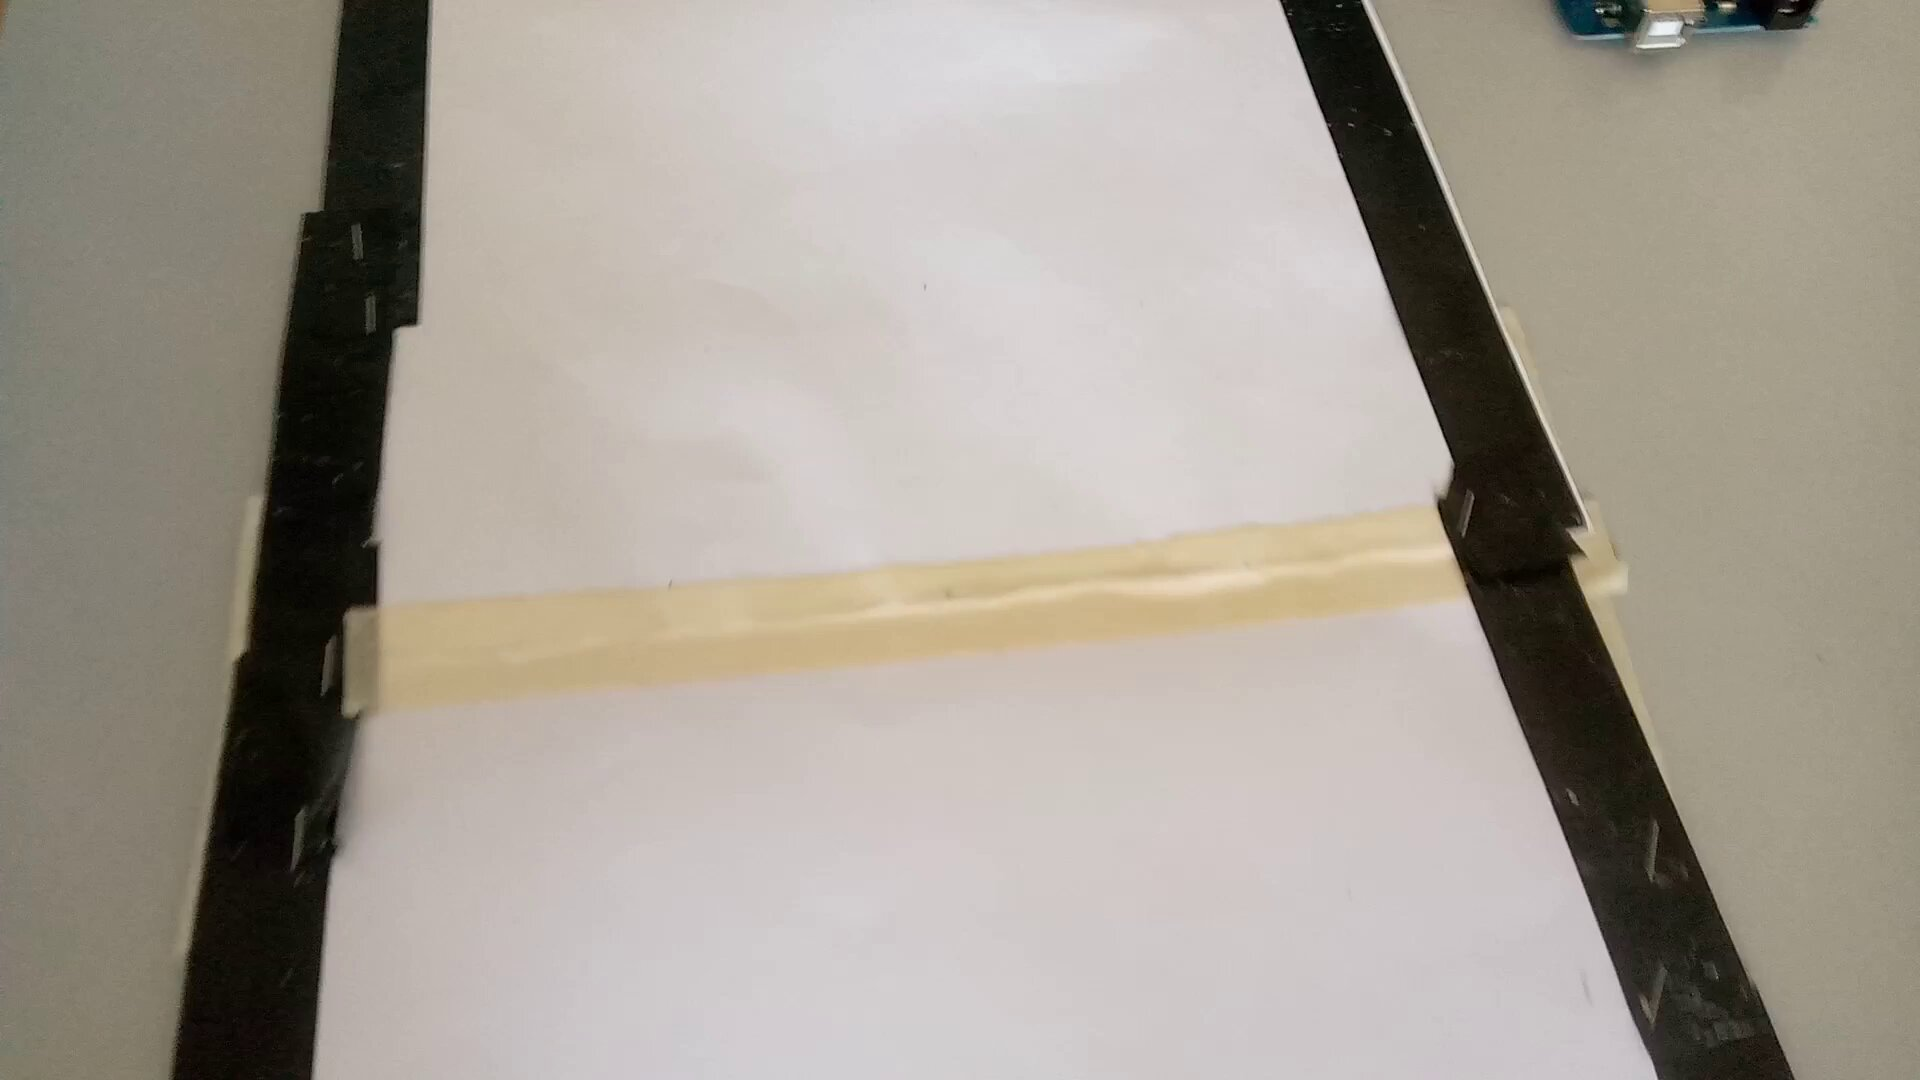forward: (264, 123, 1548, 493)
